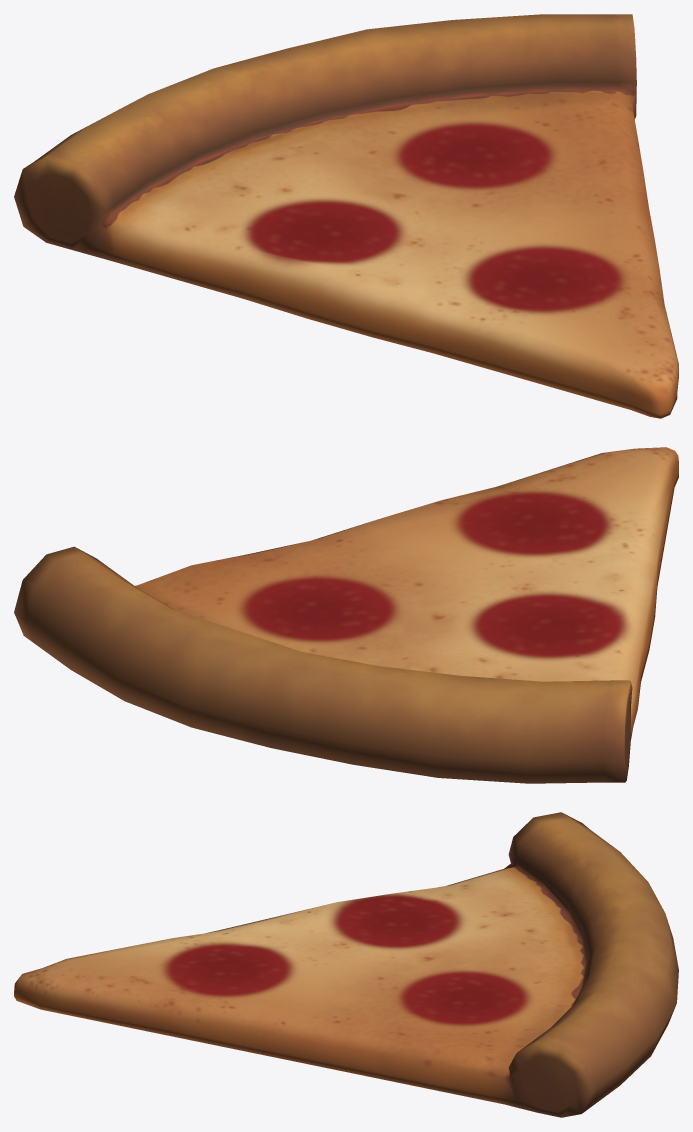
The model's file is Pizza.FBX.
The picture shows the model from 3 angles, top to bottom: view 1: azimuth 30°, elevation 25°; view 2: azimuth 150°, elevation 25°; view 3: azimuth 270°, elevation 25°; orthographic projection. The views are drawn at different scales.
Parts seen in each view (by area): view 1: Pizza; view 2: Pizza; view 3: Pizza.
Part boxes in pixels (x1,y1,x2,y2): Pizza: (14,14,678,418); Pizza: (14,447,678,783); Pizza: (14,812,678,1117).
Size of the model in its own units: 24.86 by 3.41 by 28.28.
Materials: 1 (1 with a texture image).
